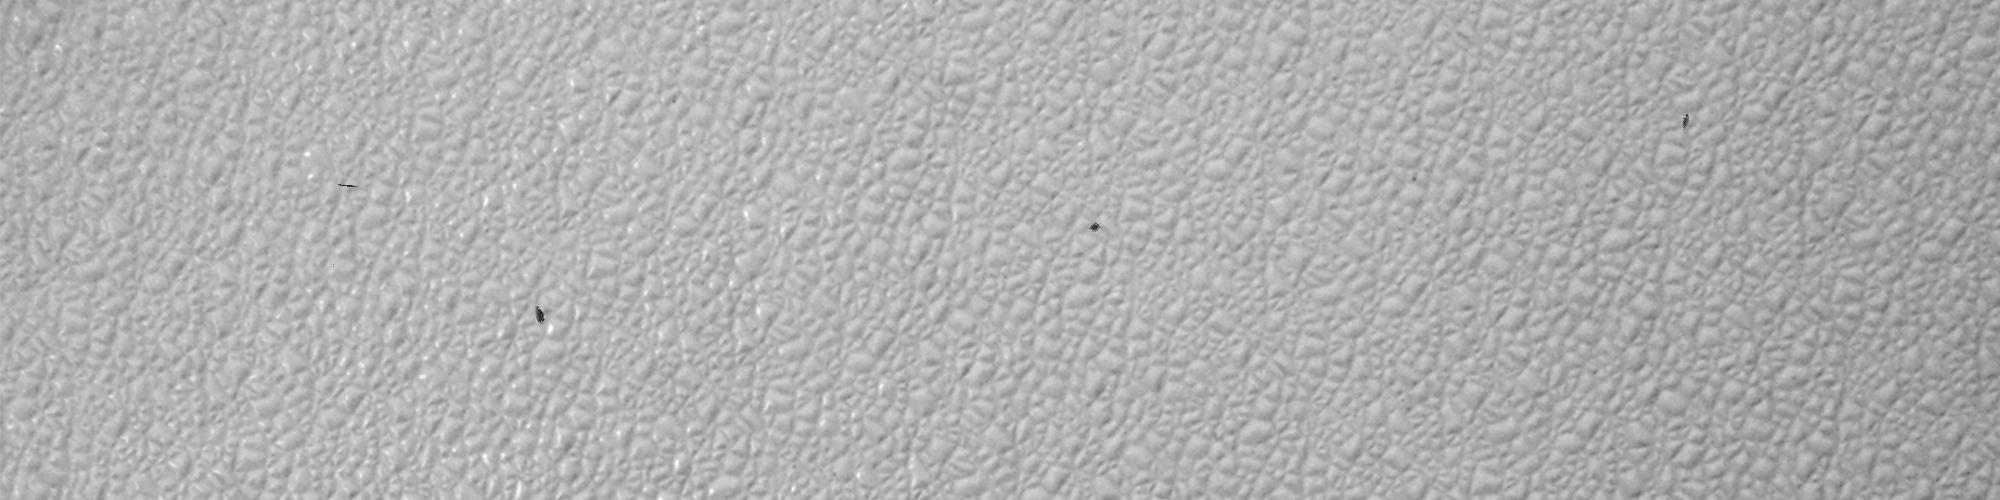Decomposed: (526, 302, 557, 329), (334, 179, 365, 195), (1085, 216, 1105, 236)
